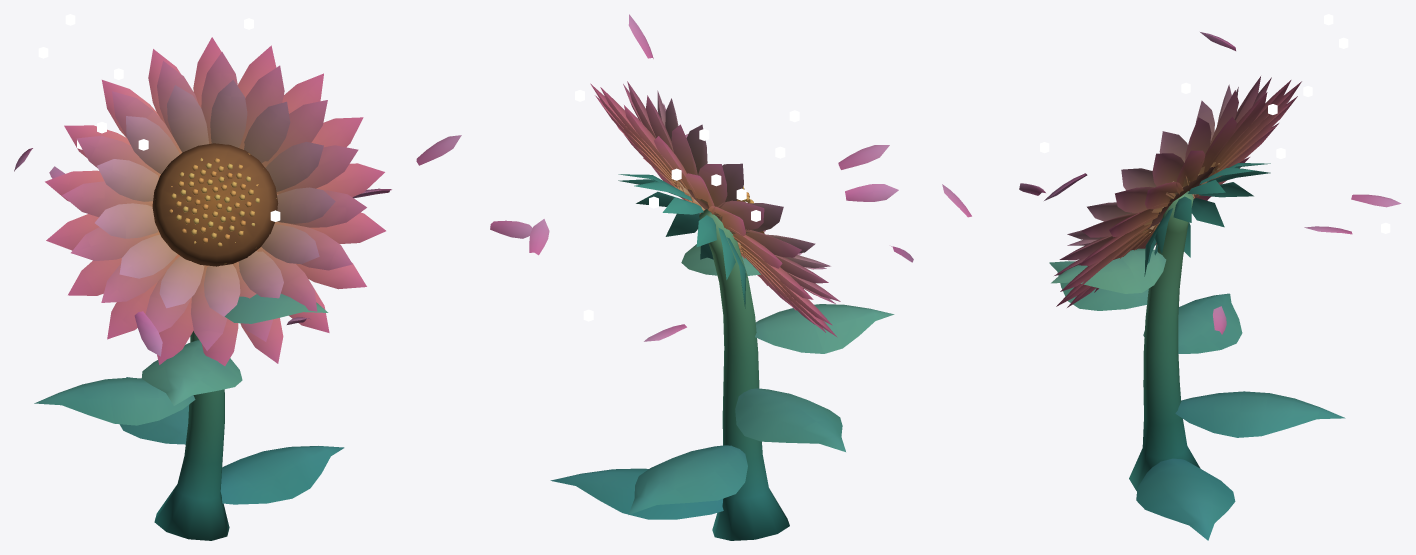
File: verdant_flower_hero_sunbloom.glb
The picture shows the model from 3 angles, left to right: view 1: azimuth 30°, elevation 25°; view 2: azimuth 150°, elevation 25°; view 3: azimuth 270°, elevation 25°; orthographic projection. The views are drawn at different scales.
Visible parts, largest first — view 1: verdant_flower_hero_sunbloom; view 2: verdant_flower_hero_sunbloom; view 3: verdant_flower_hero_sunbloom.
Boxes of the visible parts, x1,y1,x2,y2 form: verdant_flower_hero_sunbloom: [14, 14, 461, 540]; verdant_flower_hero_sunbloom: [490, 14, 913, 540]; verdant_flower_hero_sunbloom: [942, 14, 1401, 540].
Size of the model in its own units: 4.12 by 4.73 by 4.37.
